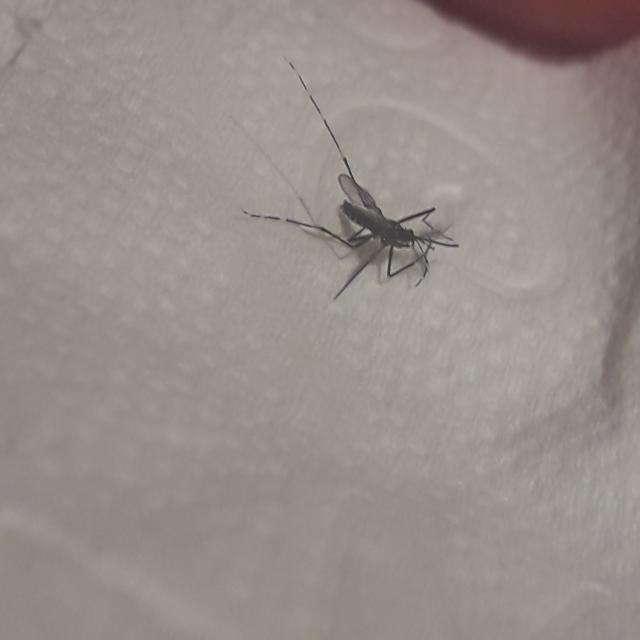albopictus: (236, 41, 460, 312)
